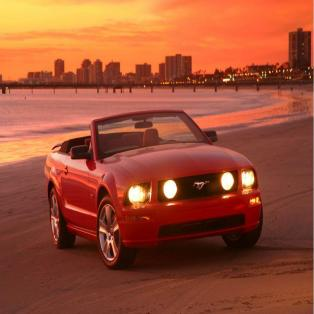Auto: (45, 108, 264, 269)
